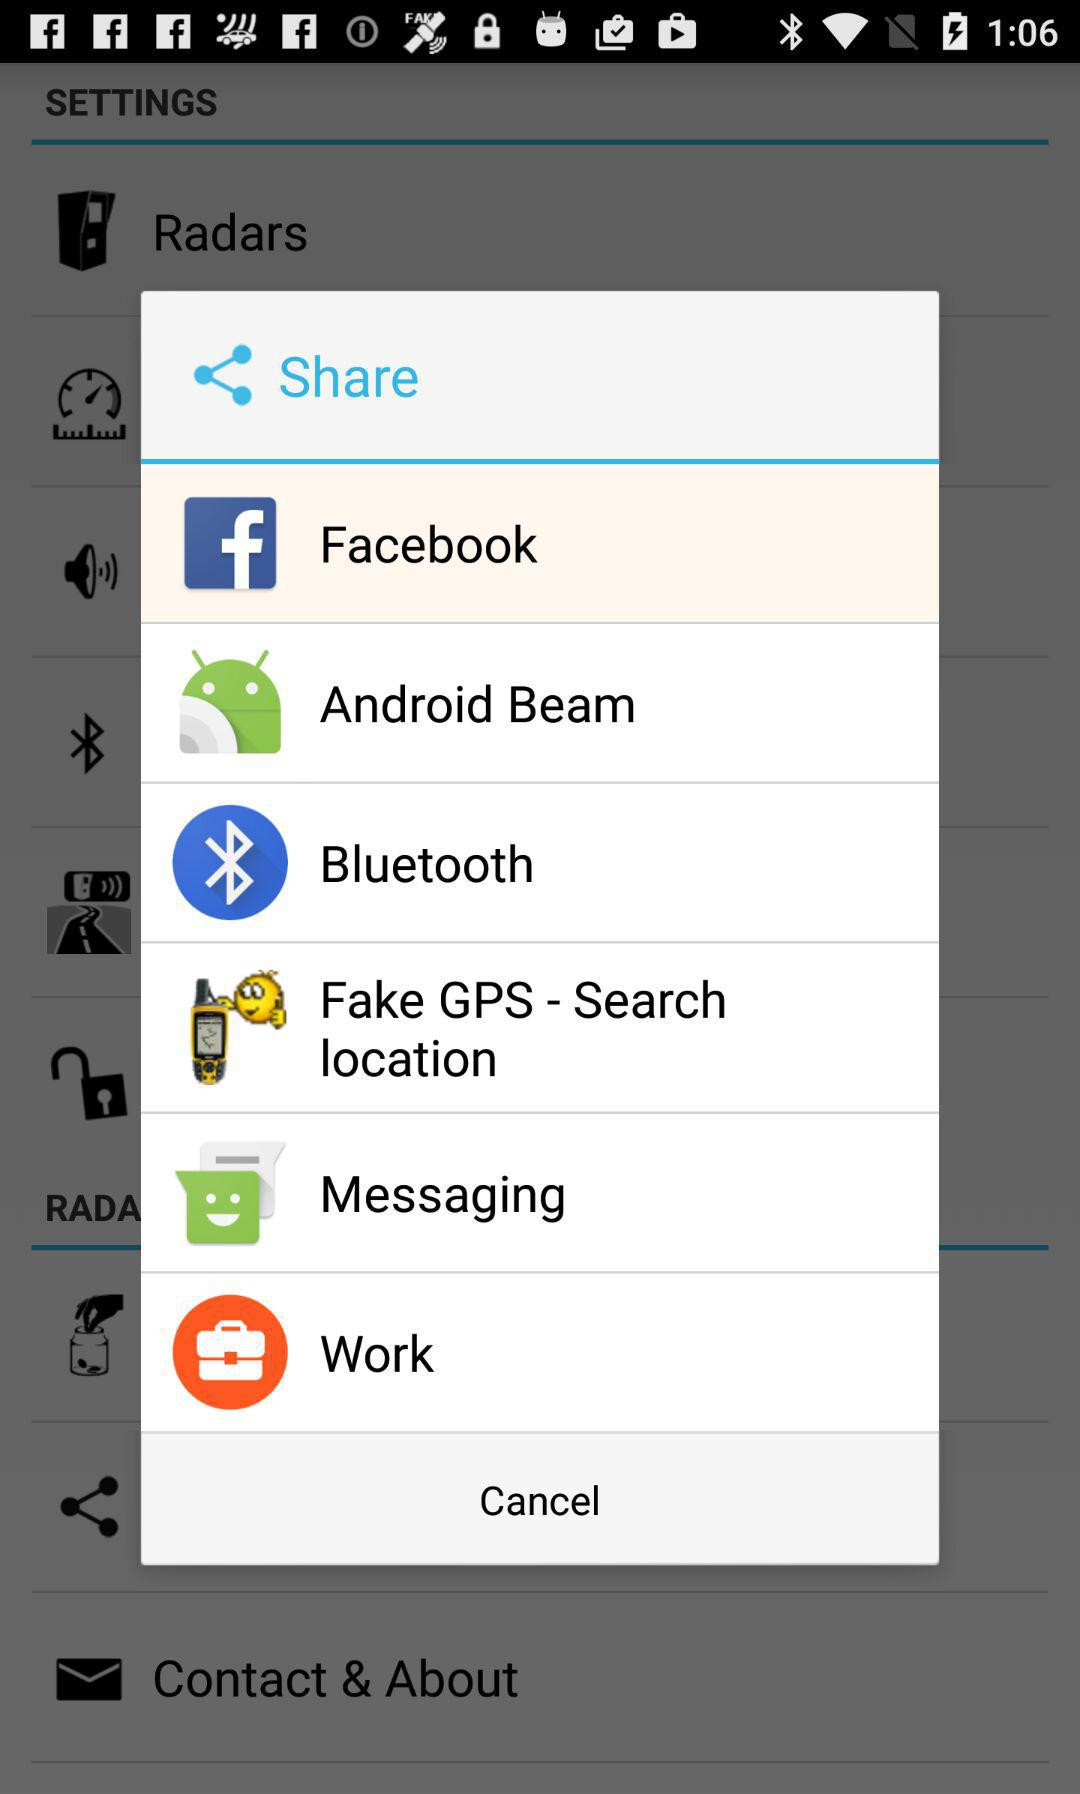Icon: (173, 805, 290, 921), (173, 1296, 290, 1410), (184, 497, 278, 589), (60, 1476, 120, 1539), (195, 343, 252, 407), (56, 1658, 123, 1702), (70, 714, 106, 775)
Image: (176, 1140, 288, 1246), (190, 970, 288, 1085), (181, 650, 282, 753), (47, 871, 133, 955), (53, 1047, 129, 1123), (53, 369, 128, 442), (58, 191, 118, 274), (70, 1294, 126, 1378), (65, 545, 120, 601)
Modal: (141, 291, 939, 1565)
Text: (323, 980, 726, 1078), (154, 1657, 519, 1699), (322, 686, 634, 724), (323, 1176, 565, 1224), (324, 524, 537, 564), (323, 844, 533, 884), (156, 213, 307, 254), (281, 355, 419, 399), (45, 88, 218, 117), (322, 1333, 436, 1372), (47, 1194, 140, 1222)
TextButton: (142, 1434, 939, 1565)
UpperTaskBar: (1, 1, 1080, 64)
